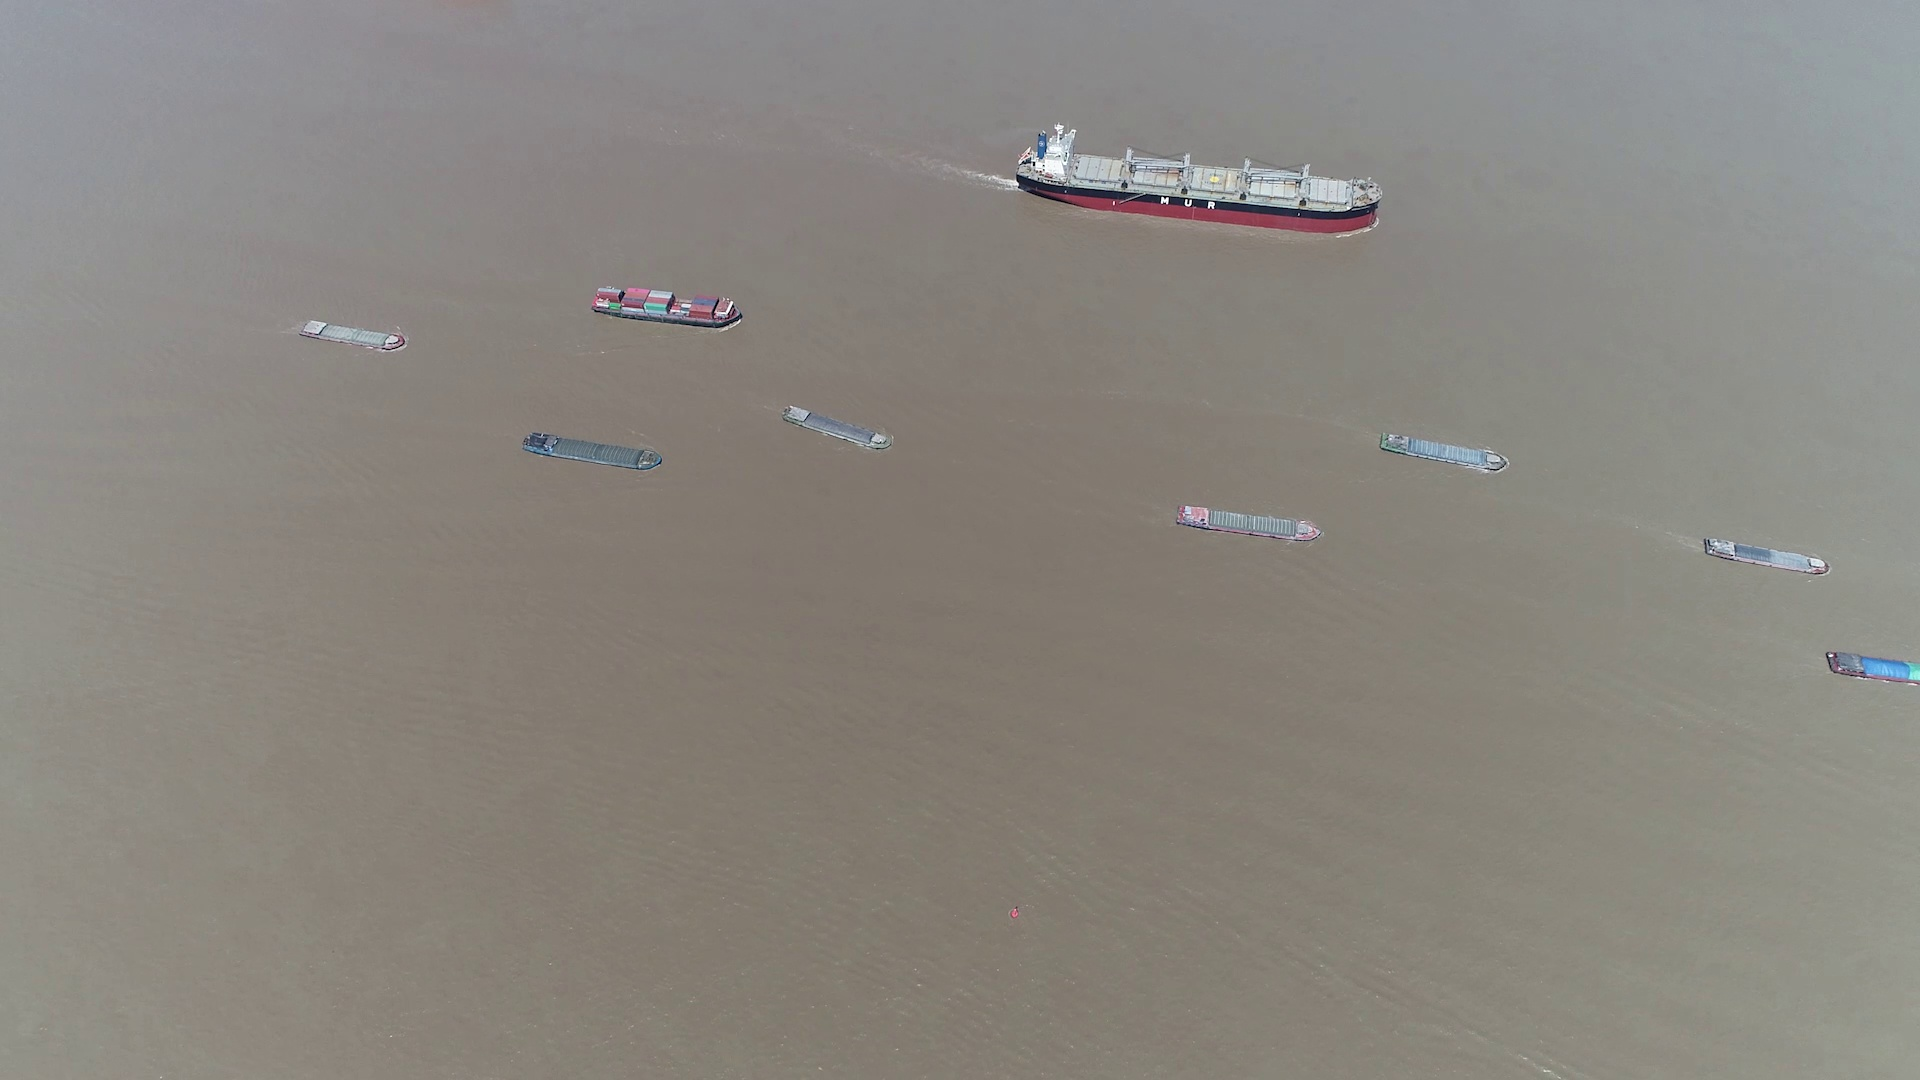ship: (1015, 131, 1379, 233), (593, 285, 742, 327), (524, 431, 665, 472), (1175, 504, 1323, 542), (1381, 431, 1507, 473), (785, 404, 893, 451), (1701, 537, 1829, 576), (301, 318, 407, 352), (1826, 651, 1920, 684)
